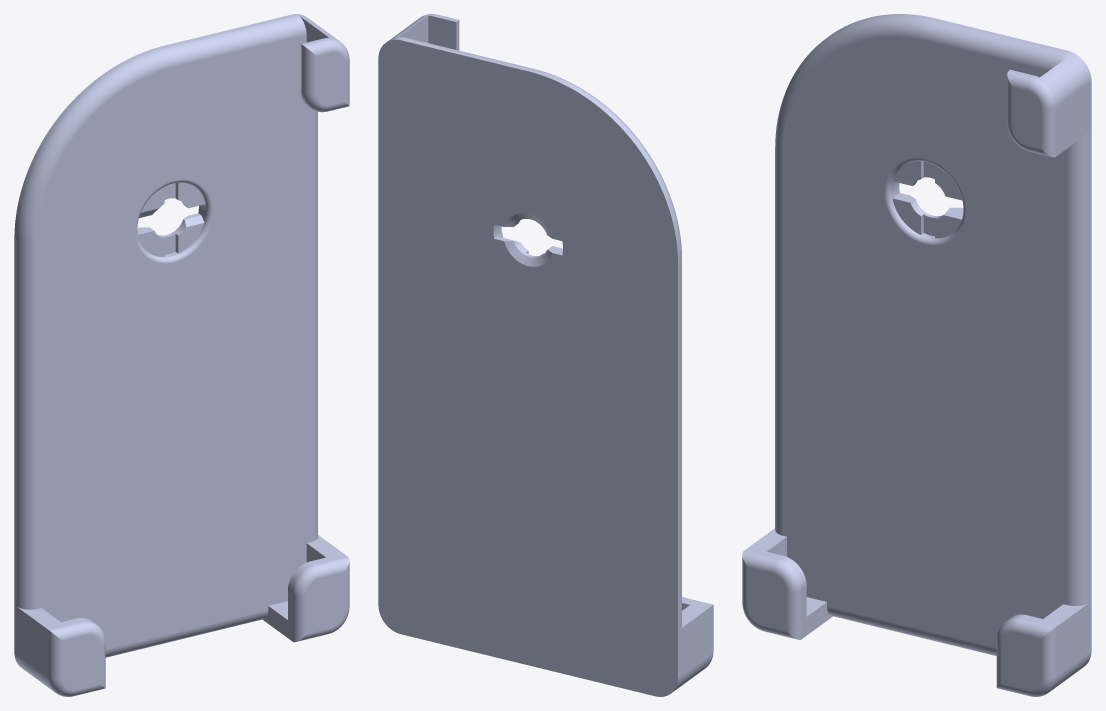
Rendered from phone-holder.glb.
The picture shows the model from 3 angles, left to right: view 1: azimuth 30°, elevation 25°; view 2: azimuth 150°, elevation 25°; view 3: azimuth 330°, elevation 25°; orthographic projection. The views are drawn at different scales.
Visible parts, largest first — view 1: Part 1; view 2: Part 1; view 3: Part 1.
Boxes of the visible parts, <box> form: Part 1: <box>14,14,349,696</box>; Part 1: <box>378,14,713,696</box>; Part 1: <box>742,14,1091,696</box>.
Bounding box in the file's own units: 0.0838 × 0.1587 × 0.0191.
